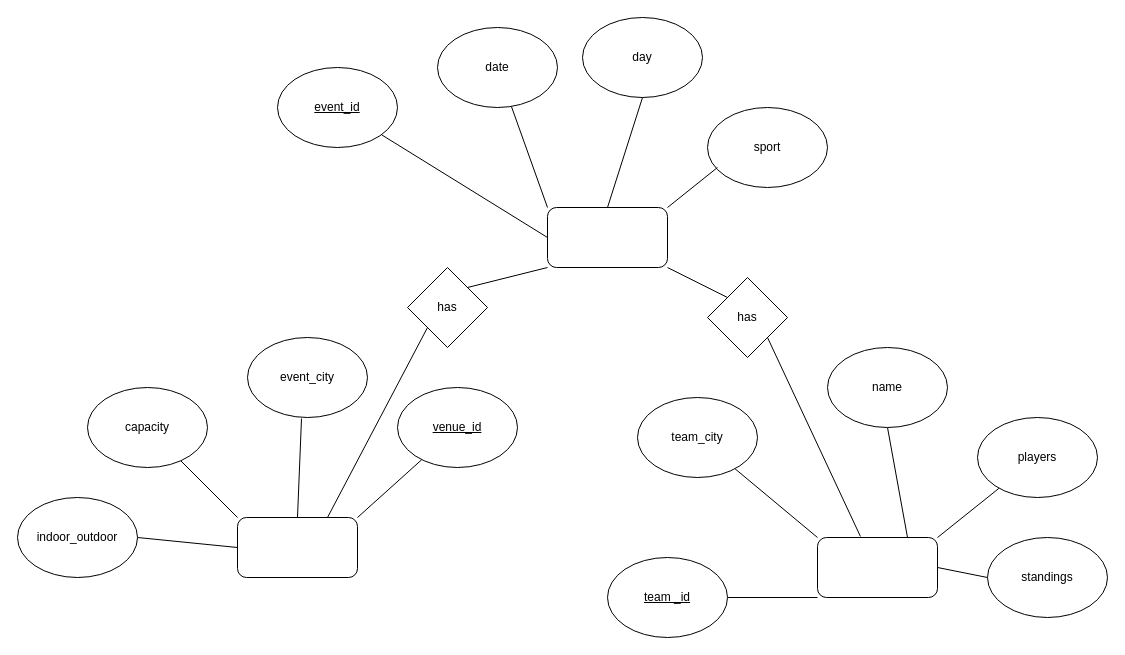
This 1125x655 diagram has some shape labels left out. The shapes that lost their labels are listed below. From the top down, each one's box as (x1, y1, x2, y2) in pixels, then its label:
(546, 206, 668, 268): event
(236, 516, 358, 578): venue
(816, 536, 938, 598): team
